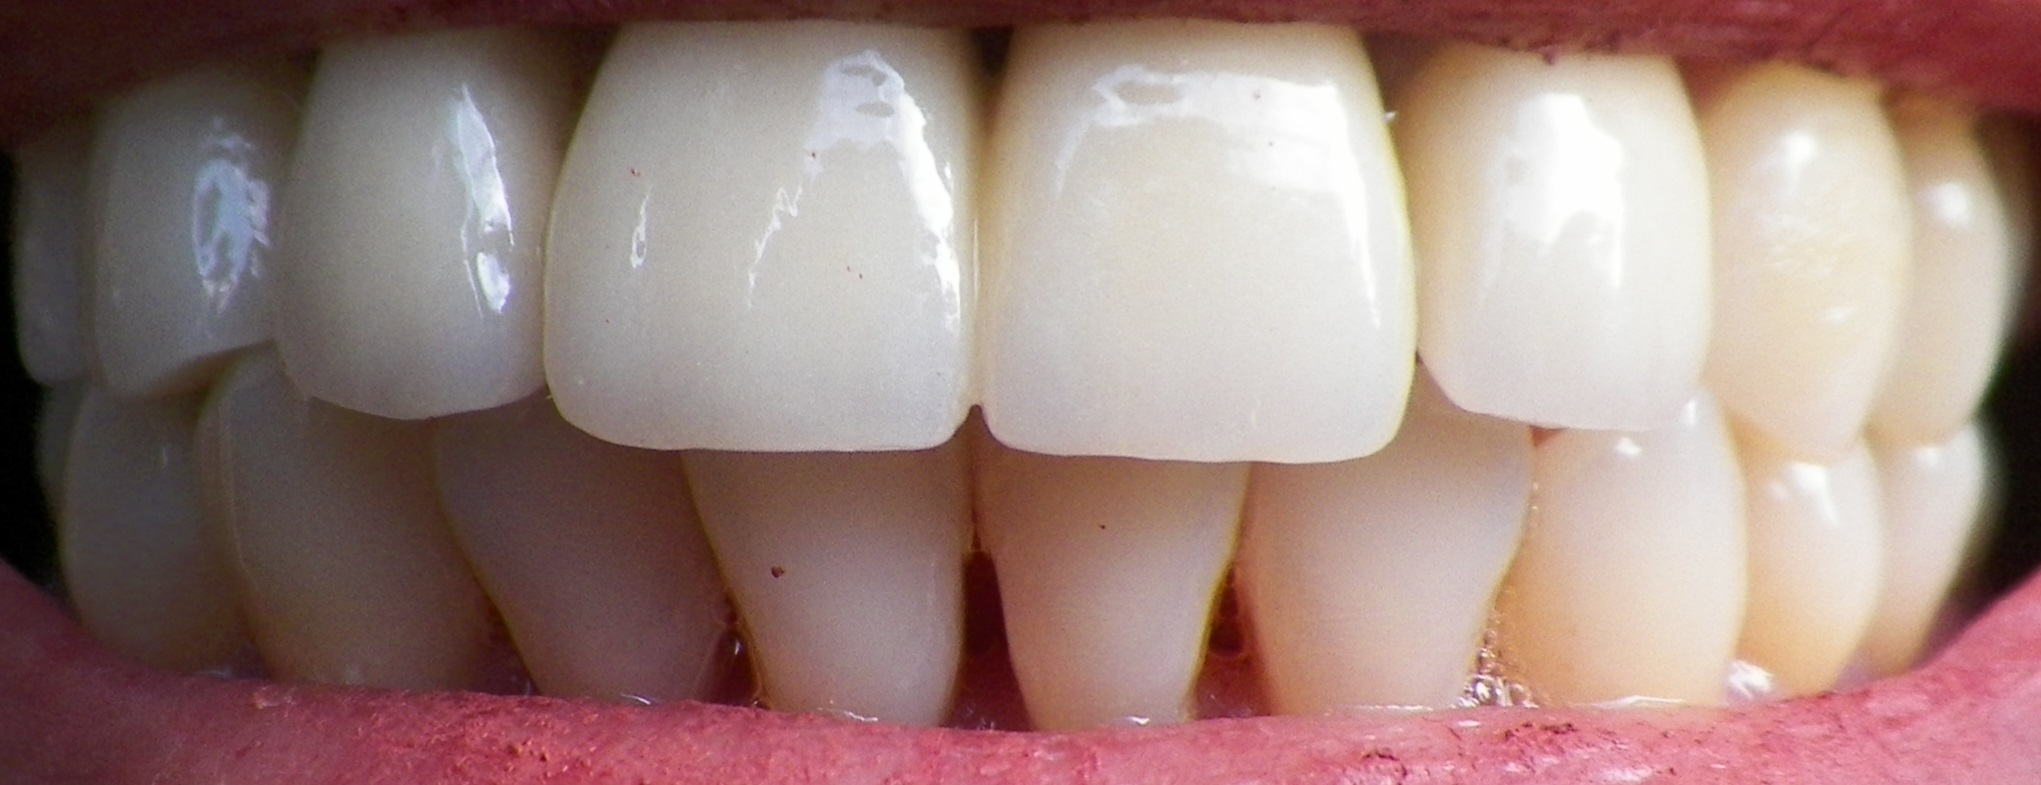boca: (3, 47, 2002, 703)
